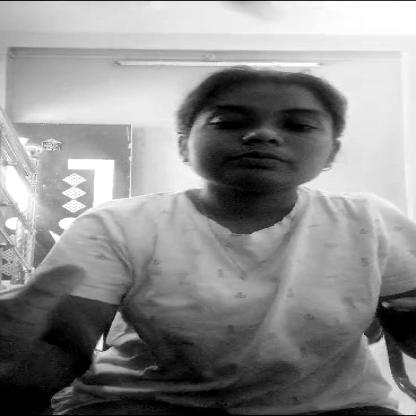Normal: (192, 84, 329, 184)
